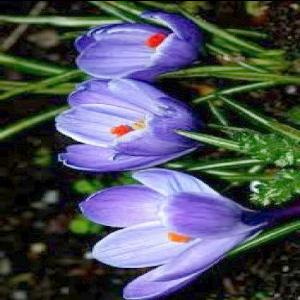Saffron: (81, 167, 279, 296), (56, 80, 218, 171), (74, 8, 216, 74)
